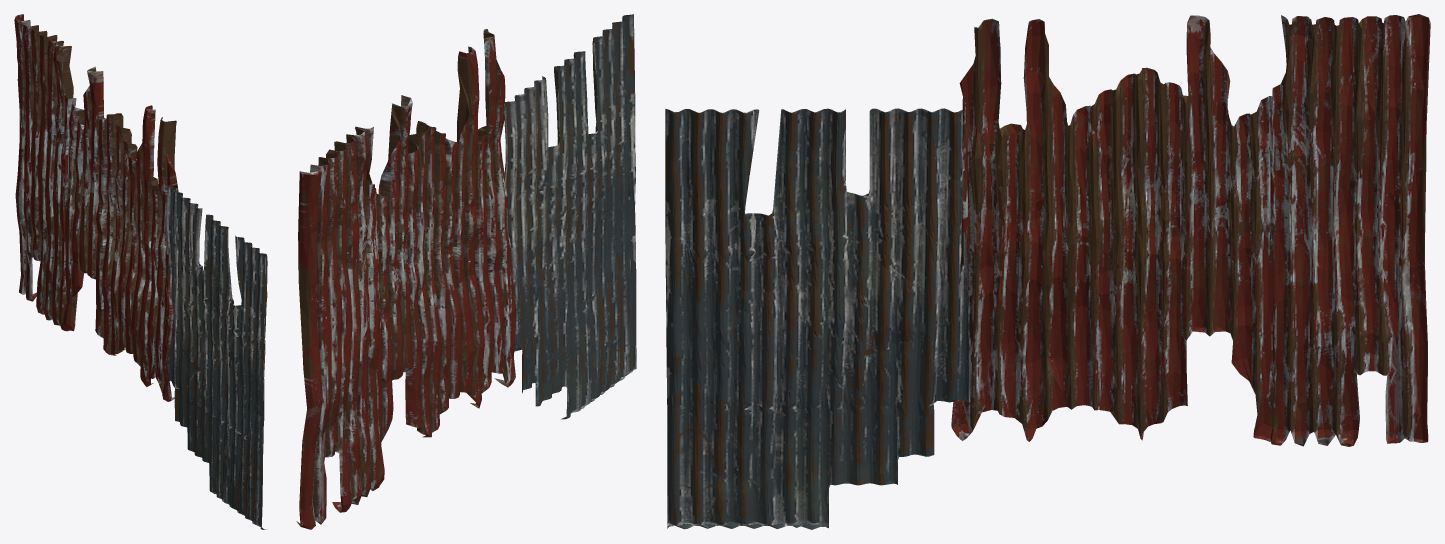
The model's file is SM_Corrugated_Metal_3.fbx.
3 renders of one model, left to right at view 1: azimuth 30°, elevation 25°; view 2: azimuth 150°, elevation 25°; view 3: azimuth 270°, elevation 25°, orthographic. The views are drawn at different scales.
Parts seen in each view (by area): view 1: SM_Corrugated_Metal_3_LOD0; view 2: SM_Corrugated_Metal_3_LOD0; view 3: SM_Corrugated_Metal_3_LOD0.
Boxes of the visible parts, x1=… form: SM_Corrugated_Metal_3_LOD0: x1=14, y1=14, x2=267, y2=529; SM_Corrugated_Metal_3_LOD0: x1=296, y1=14, x2=636, y2=529; SM_Corrugated_Metal_3_LOD0: x1=665, y1=14, x2=1430, y2=529.
Size of the model in its own units: 14.43 by 328 by 242.
Materials: 1 (1 with a texture image).
